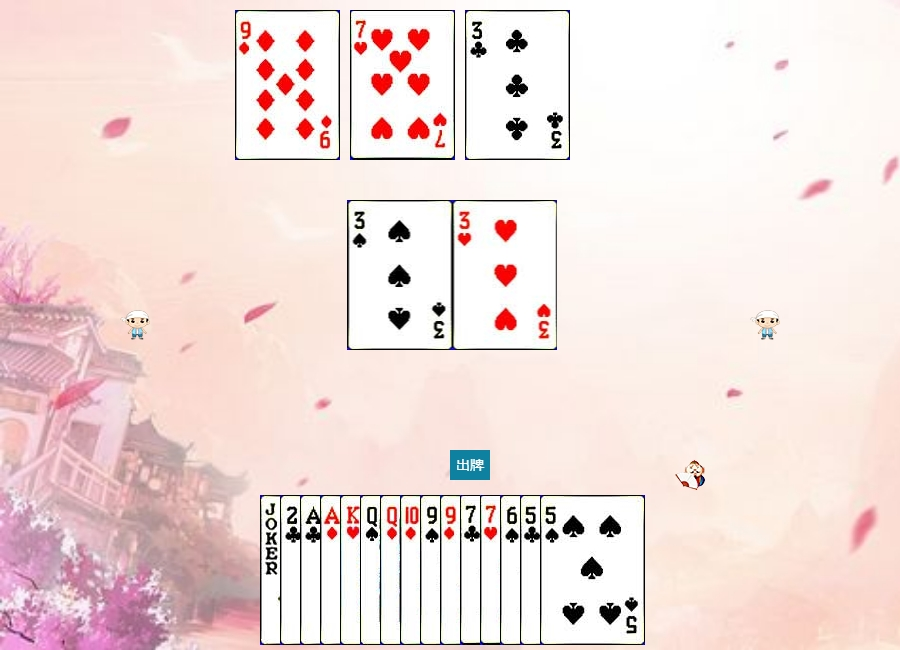10~1: (400, 495, 505, 645)
12~1: (380, 495, 485, 645)
12~4: (360, 495, 465, 645)
13~3: (340, 495, 445, 645)
14~1: (320, 495, 425, 645)
14~2: (300, 495, 405, 645)
15~2: (280, 495, 385, 645)
17~3: (260, 495, 365, 645)
3~2: (465, 10, 570, 160)
3~3: (453, 200, 558, 350)
3~4: (348, 200, 453, 350)
5~2: (520, 495, 625, 645)
5~4: (540, 495, 645, 645)
6~4: (500, 495, 605, 645)
7~2: (460, 495, 565, 645)
7~3: (350, 10, 455, 160), (480, 495, 585, 645)
9~1: (235, 10, 340, 160), (440, 495, 545, 645)
9~4: (420, 495, 525, 645)
